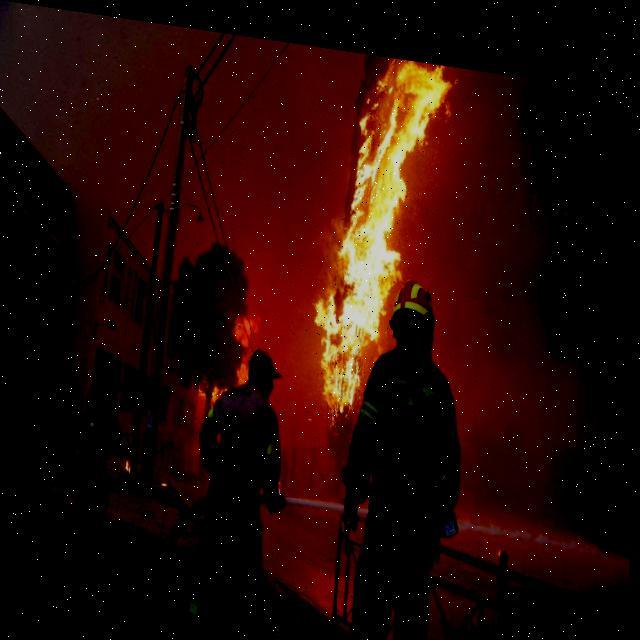Fire: (308, 44, 460, 424), (198, 285, 266, 412)
